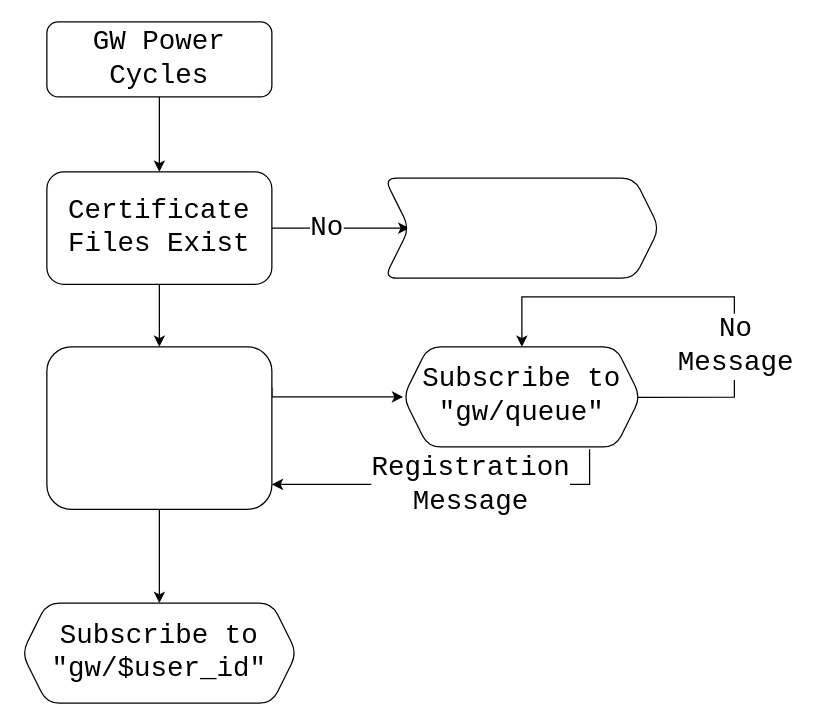
This 814x725 diagram has some shape labels left out. Here are the shapes that lost their labels. From the top down, the centre of each, then its label:
At [521,227]: "Call Provisioning Lambda".
At [159,427]: "MQTT Topic File Exists".
